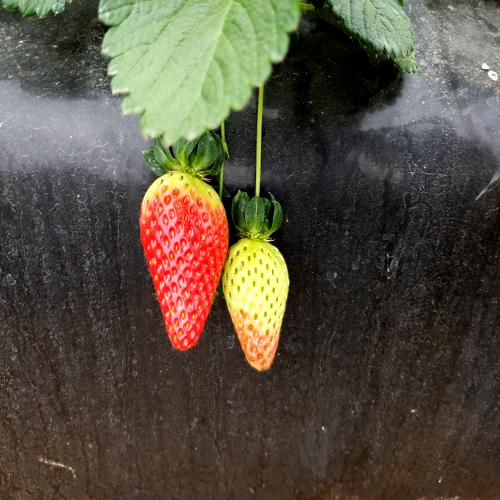partially-ripe: (137, 151, 230, 358), (224, 224, 294, 379)
